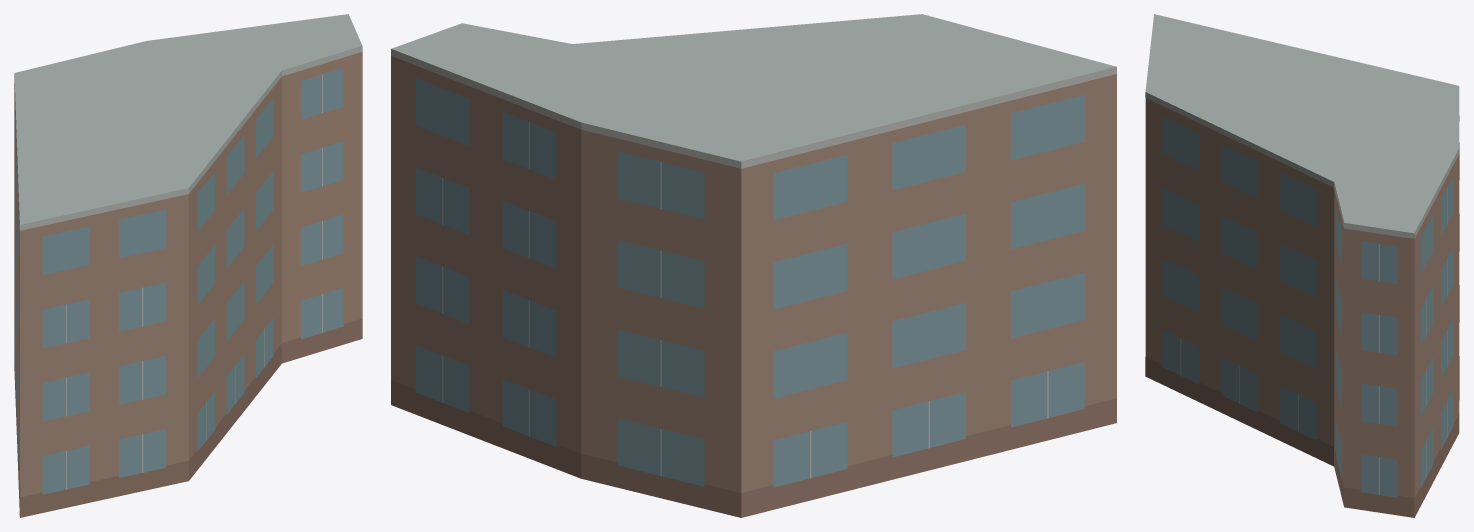
Rendered from residential-15419acd-d416-4d4e-aa96-c7e23c4a00e4.glb.
3 renders of one model, left to right at view 1: azimuth 30°, elevation 25°; view 2: azimuth 150°, elevation 25°; view 3: azimuth 270°, elevation 25°, orthographic. The views are drawn at different scales.
Visible parts, largest first — view 1: residential-15419acd-d416-4d4e-aa96-c7e23c4a00e4.tmp; view 2: residential-15419acd-d416-4d4e-aa96-c7e23c4a00e4.tmp; view 3: residential-15419acd-d416-4d4e-aa96-c7e23c4a00e4.tmp.
Boxes of the visible parts, x1,y1,x2,y2 form: residential-15419acd-d416-4d4e-aa96-c7e23c4a00e4.tmp: (14, 14, 362, 517); residential-15419acd-d416-4d4e-aa96-c7e23c4a00e4.tmp: (391, 14, 1116, 517); residential-15419acd-d416-4d4e-aa96-c7e23c4a00e4.tmp: (1145, 14, 1459, 517).
Bounding box in the file's own units: 20.18 × 12.2 × 12.21.
